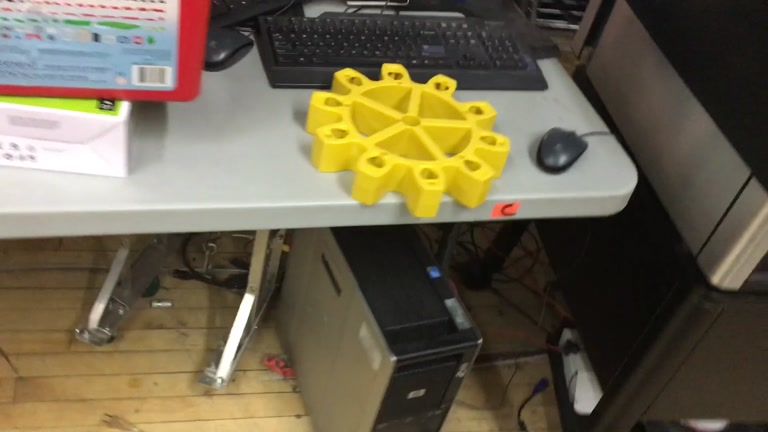gear: (305, 62, 511, 218)
